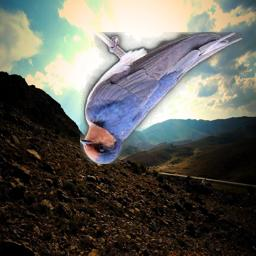Swallow: (80, 32, 242, 164)
